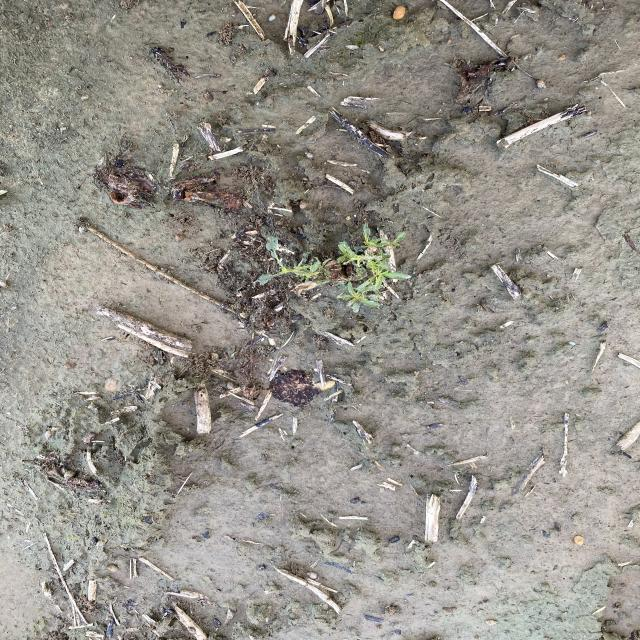Waterhemp: (255, 222, 413, 313)
